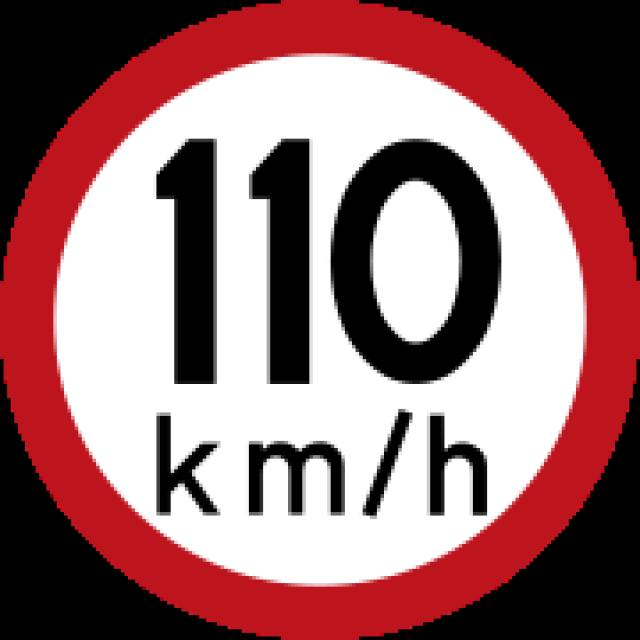Speed Limit -110-: (140, 126, 507, 394)
